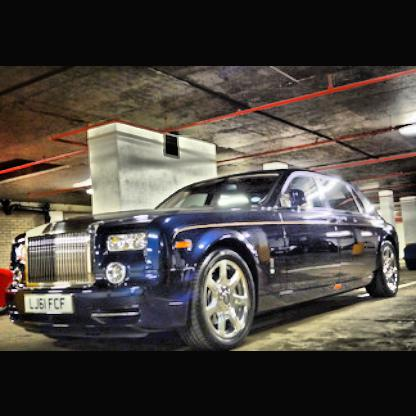Rolls-Royce Phantom Sedan 2012: (6, 155, 413, 341)
